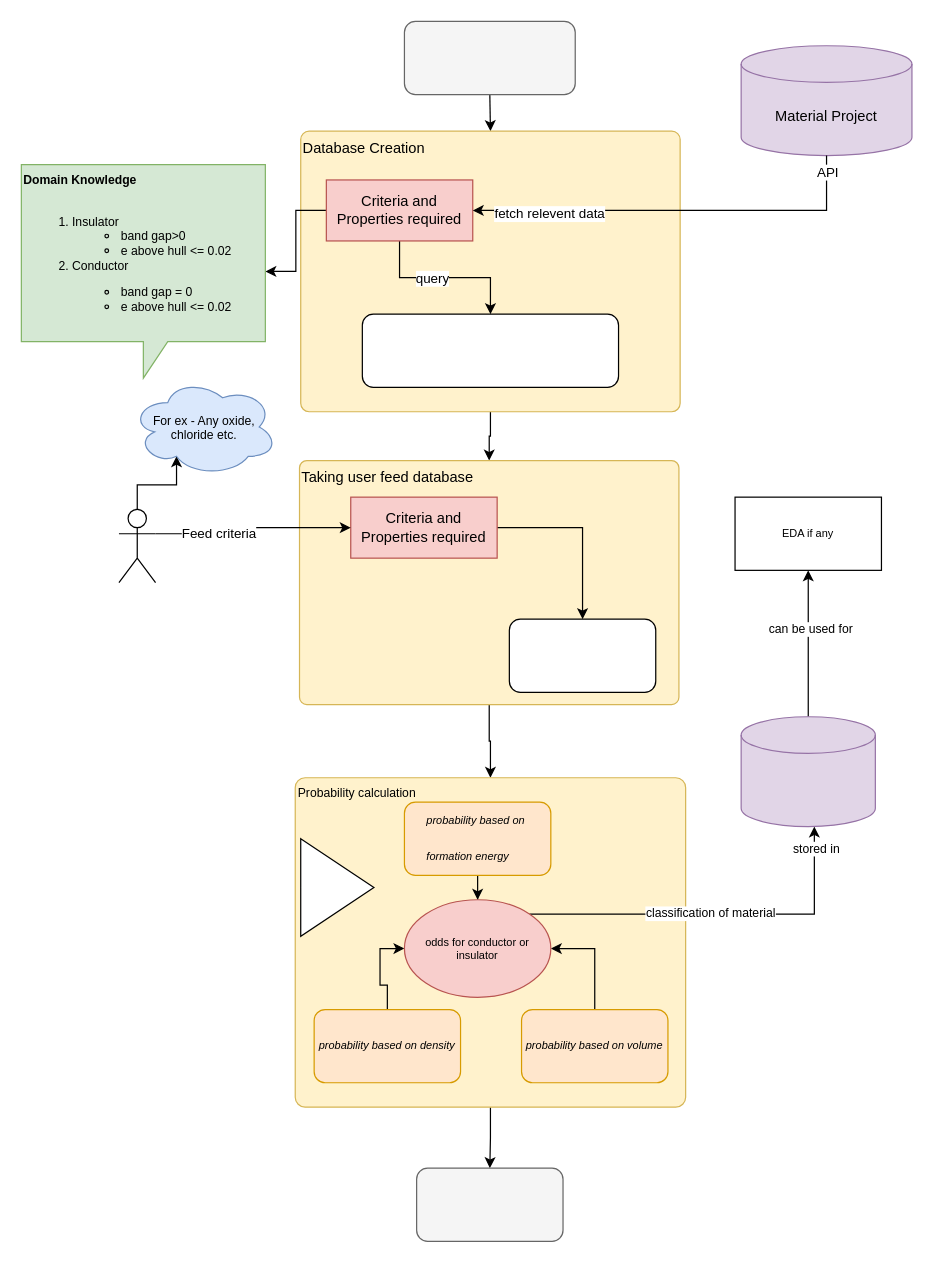
This 933x1263 diagram has some shape labels left out. Here are the shapes that lost their labels. From the top down, the centre of each, then its label:
point (489, 57): Start
point (490, 350): Creation of a databases with the properties of the insulators and conductors.
point (137, 545): User
point (582, 655): cleaning of user given data
point (807, 771): In Built data base
point (337, 887): Naive Bayes
point (489, 1204): End
